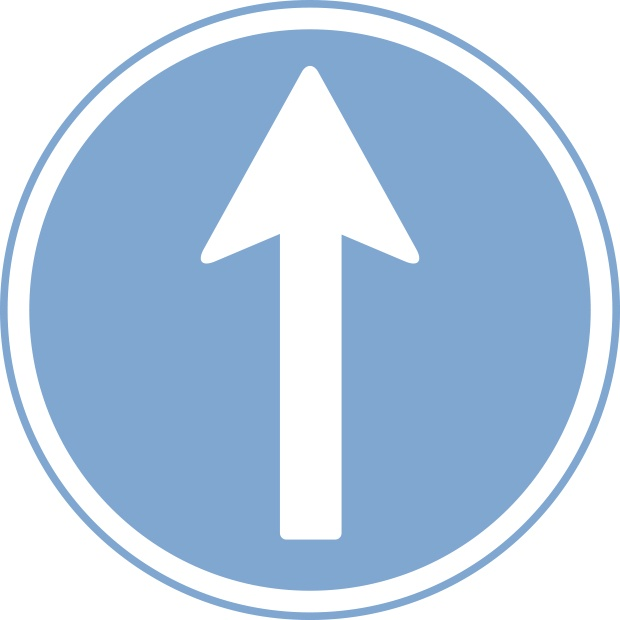Direction_sign: (5, 5, 613, 620)
